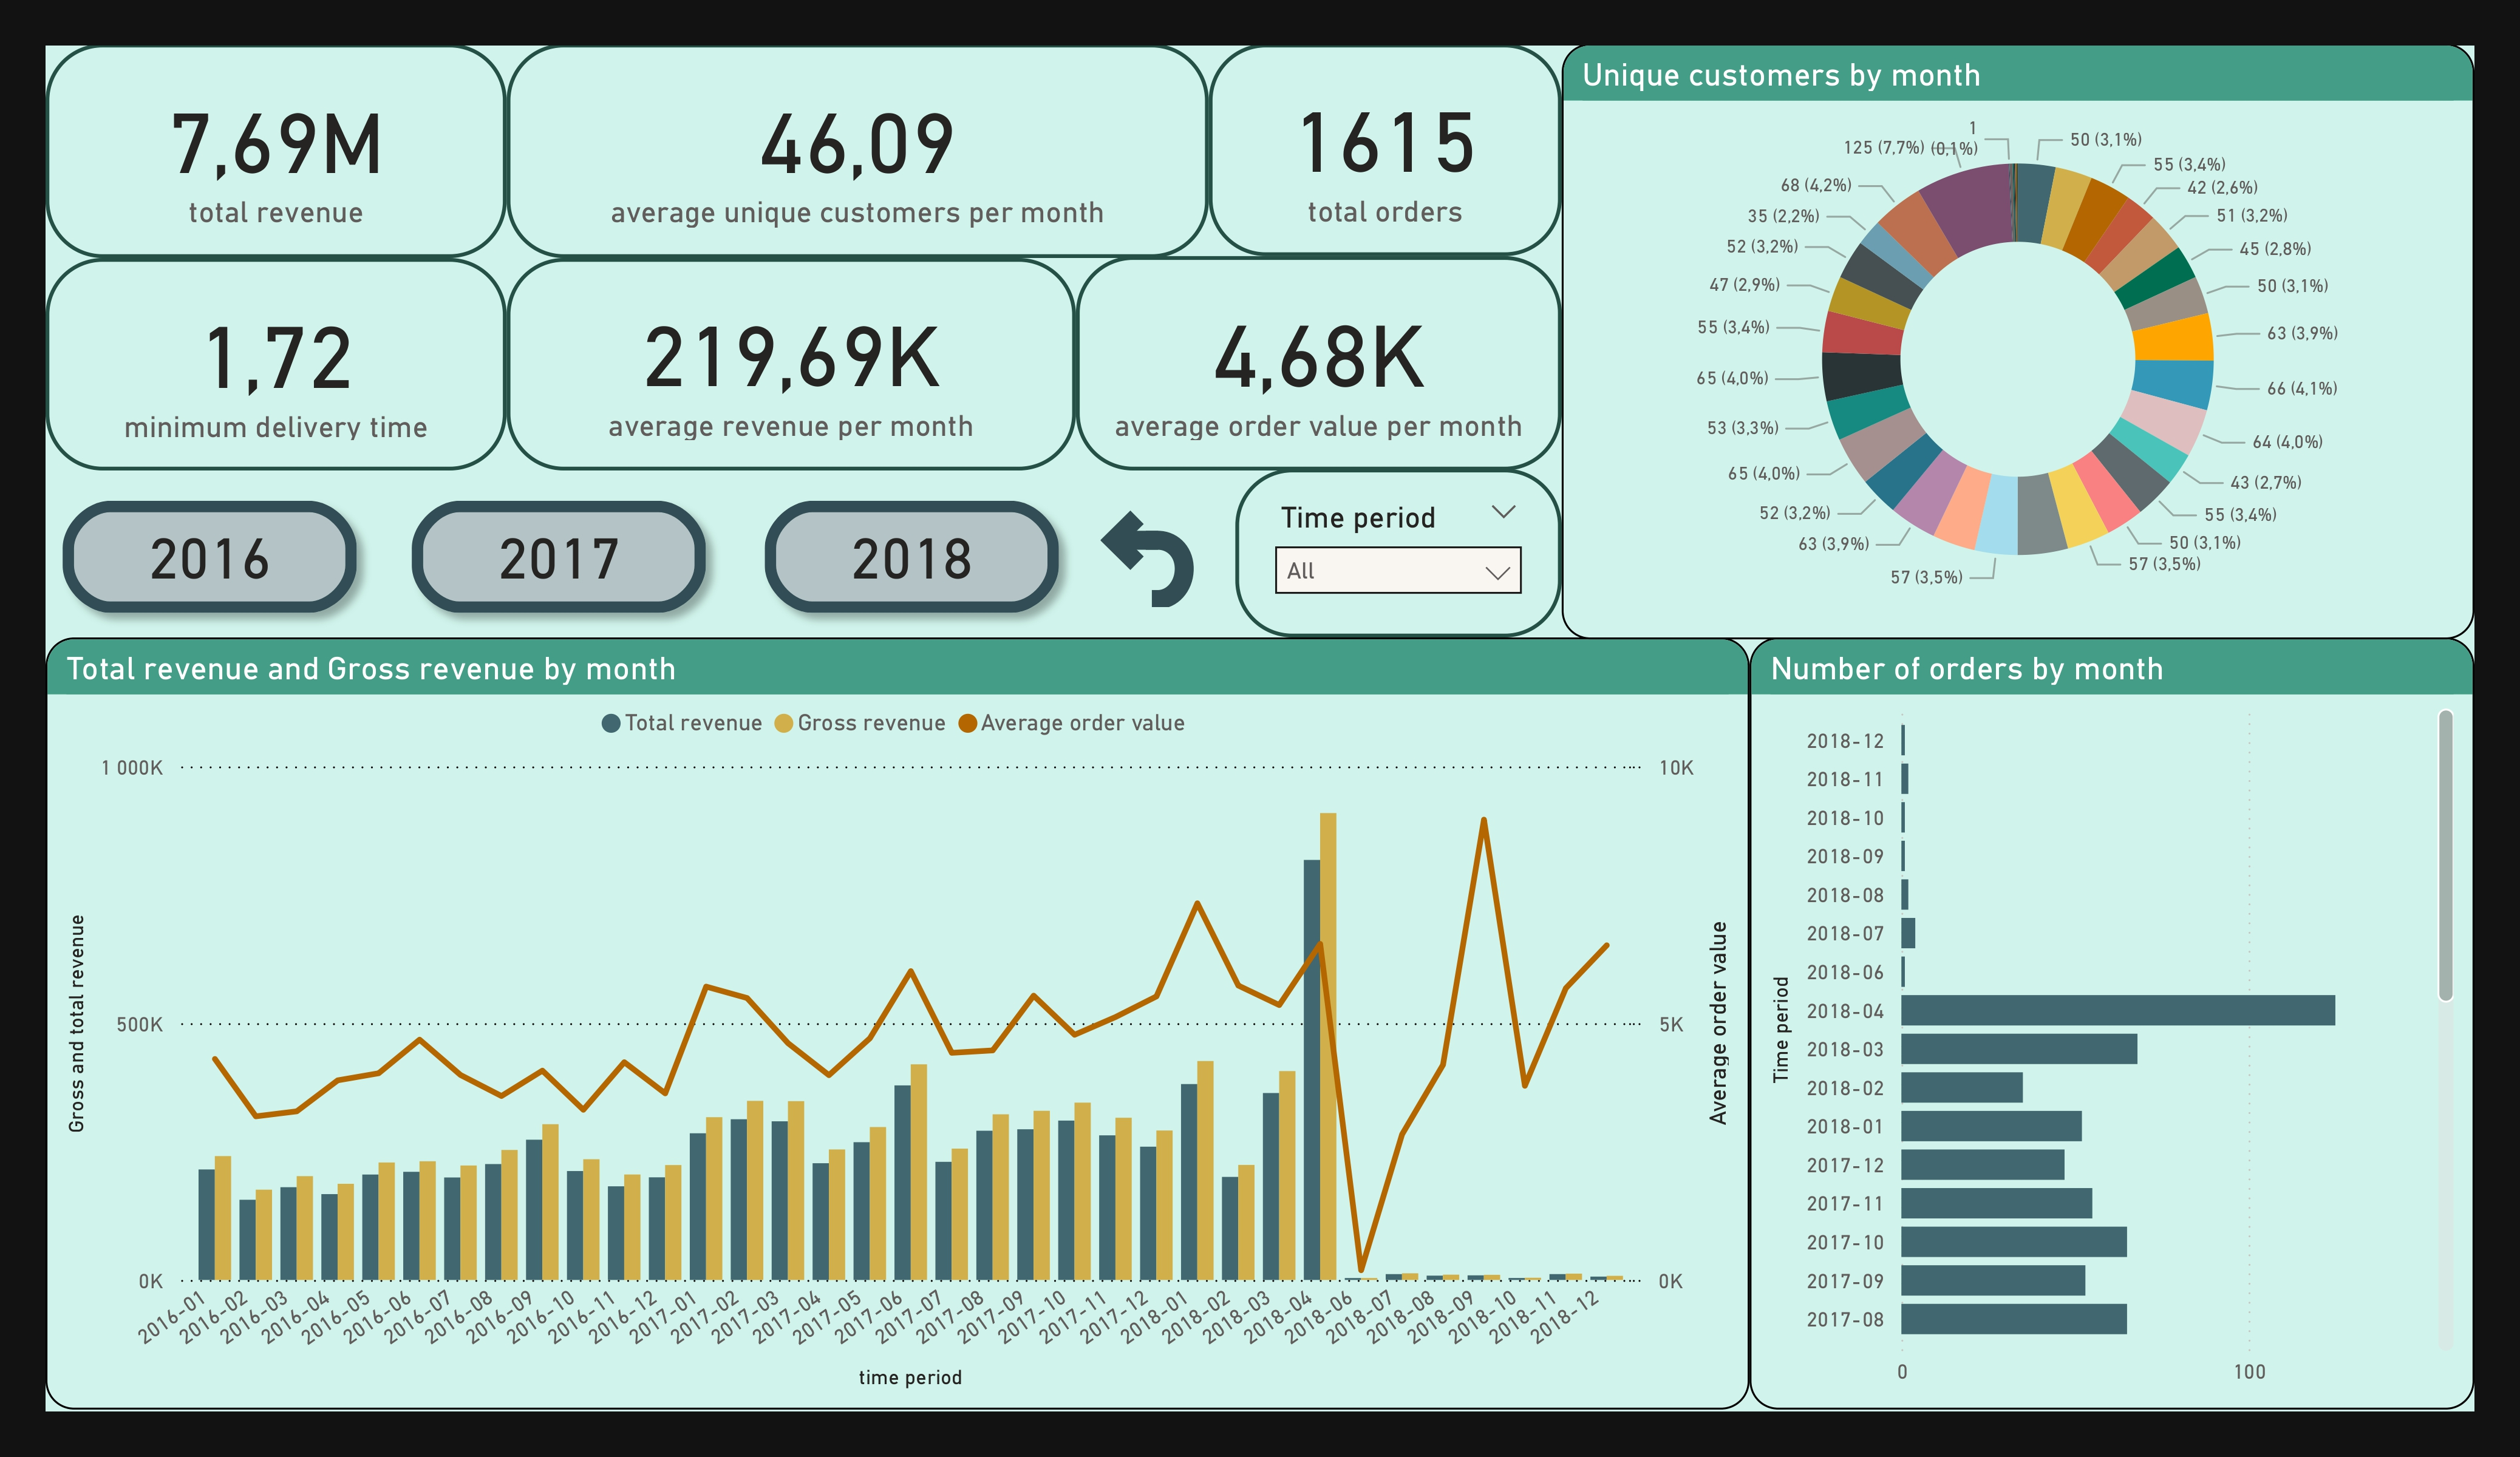

The page's visual inventory and layout, read from the dashboard file:
{"tool":"powerbi","page":{"name":"sales_overview","canvas":[1280,720],"ordinal":0},"visuals":[{"type":"lineClusteredColumnComboChart","title":"Total revenue and Gross revenue by month","fields":{"Category":["gold_layer sales_overview.time_period"],"Y":["Sum(gold_layer sales_overview.total_revenue)","Sum(gold_layer sales_overview.gross_revenue)"],"Y2":["Sum(gold_layer sales_overview.avg_order_value)"]},"box":[0.1,312.4,897.8,406.7],"z":0},{"type":"card","fields":{"Values":["Avg(gold_layer sales_overview.avg_order_value)"]},"box":[543.2,111.3,255.9,112.2],"z":1000},{"type":"card","fields":{"Values":["Sum(gold_layer sales_overview.total_orders)"]},"box":[613.3,-0.9,185.8,112.2],"z":2000},{"type":"clusteredBarChart","title":"Number of orders by month","fields":{"Category":["gold_layer sales_overview.time_period"],"Y":["Sum(gold_layer sales_overview.total_orders)"]},"box":[897.9,312.4,382.4,406.7],"z":3000},{"type":"card","fields":{"Values":["Avg(gold_layer sales_overview.unique_customers)"]},"box":[243.1,-0.9,370,112.4],"z":4000},{"type":"card","fields":{"Values":["Sum(gold_layer sales_overview.total_revenue)"]},"box":[0.1,-0.9,243,112.4],"z":5000},{"type":"card","fields":{"Values":["Avg(gold_layer sales_overview.total_revenue)"]},"box":[243.1,111.5,300.2,112.4],"z":6000},{"type":"card","fields":{"Values":["Min(gold_layer sales_overview.avg_delivery_time)"]},"box":[0.1,111.5,243,112.4],"z":7000},{"type":"donutChart","title":"Unique customers by month","fields":{"Category":["gold_layer sales_overview.time_period"],"Y":["Sum(gold_layer sales_overview.unique_customers)"]},"box":[799.3,-0.9,480.8,313.7],"z":8000},{"type":"shape","box":[369.9,230.7,173.3,77.2],"z":9000},{"type":"shape","box":[184,230.7,173.3,77.2],"z":10000},{"type":"shape","box":[0,230.7,173.3,77.2],"z":11000},{"type":"slicer","fields":{"Values":["gold_layer sales_overview.time_period"]},"box":[627,223.4,171.6,88.9],"z":12000},{"type":"actionButton","box":[543.1,232.1,83.9,76.5],"z":13000}]}

Visuals, with their boxes in screenshot pixels (x1, y1, x2, y2):
"Total revenue and Gross revenue by month" lineClusteredColumnComboChart: (x1=46, y1=638, x2=1749, y2=1410)
card - Avg(gold_layer sales_overview.avg_order_value): (x1=1077, y1=257, x2=1562, y2=469)
card - Sum(gold_layer sales_overview.total_orders): (x1=1210, y1=46, x2=1562, y2=257)
"Number of orders by month" clusteredBarChart: (x1=1749, y1=638, x2=2474, y2=1410)
card - Avg(gold_layer sales_overview.unique_customers): (x1=507, y1=46, x2=1209, y2=257)
card - Sum(gold_layer sales_overview.total_revenue): (x1=46, y1=46, x2=507, y2=257)
card - Avg(gold_layer sales_overview.total_revenue): (x1=507, y1=257, x2=1077, y2=470)
card - Min(gold_layer sales_overview.avg_delivery_time): (x1=46, y1=257, x2=507, y2=470)
"Unique customers by month" donutChart: (x1=1562, y1=46, x2=2474, y2=639)
shape: (x1=747, y1=483, x2=1077, y2=630)
shape: (x1=395, y1=483, x2=724, y2=630)
shape: (x1=46, y1=483, x2=375, y2=630)
slicer - gold_layer sales_overview.time_period: (x1=1235, y1=469, x2=1561, y2=638)
actionButton: (x1=1076, y1=486, x2=1235, y2=631)
